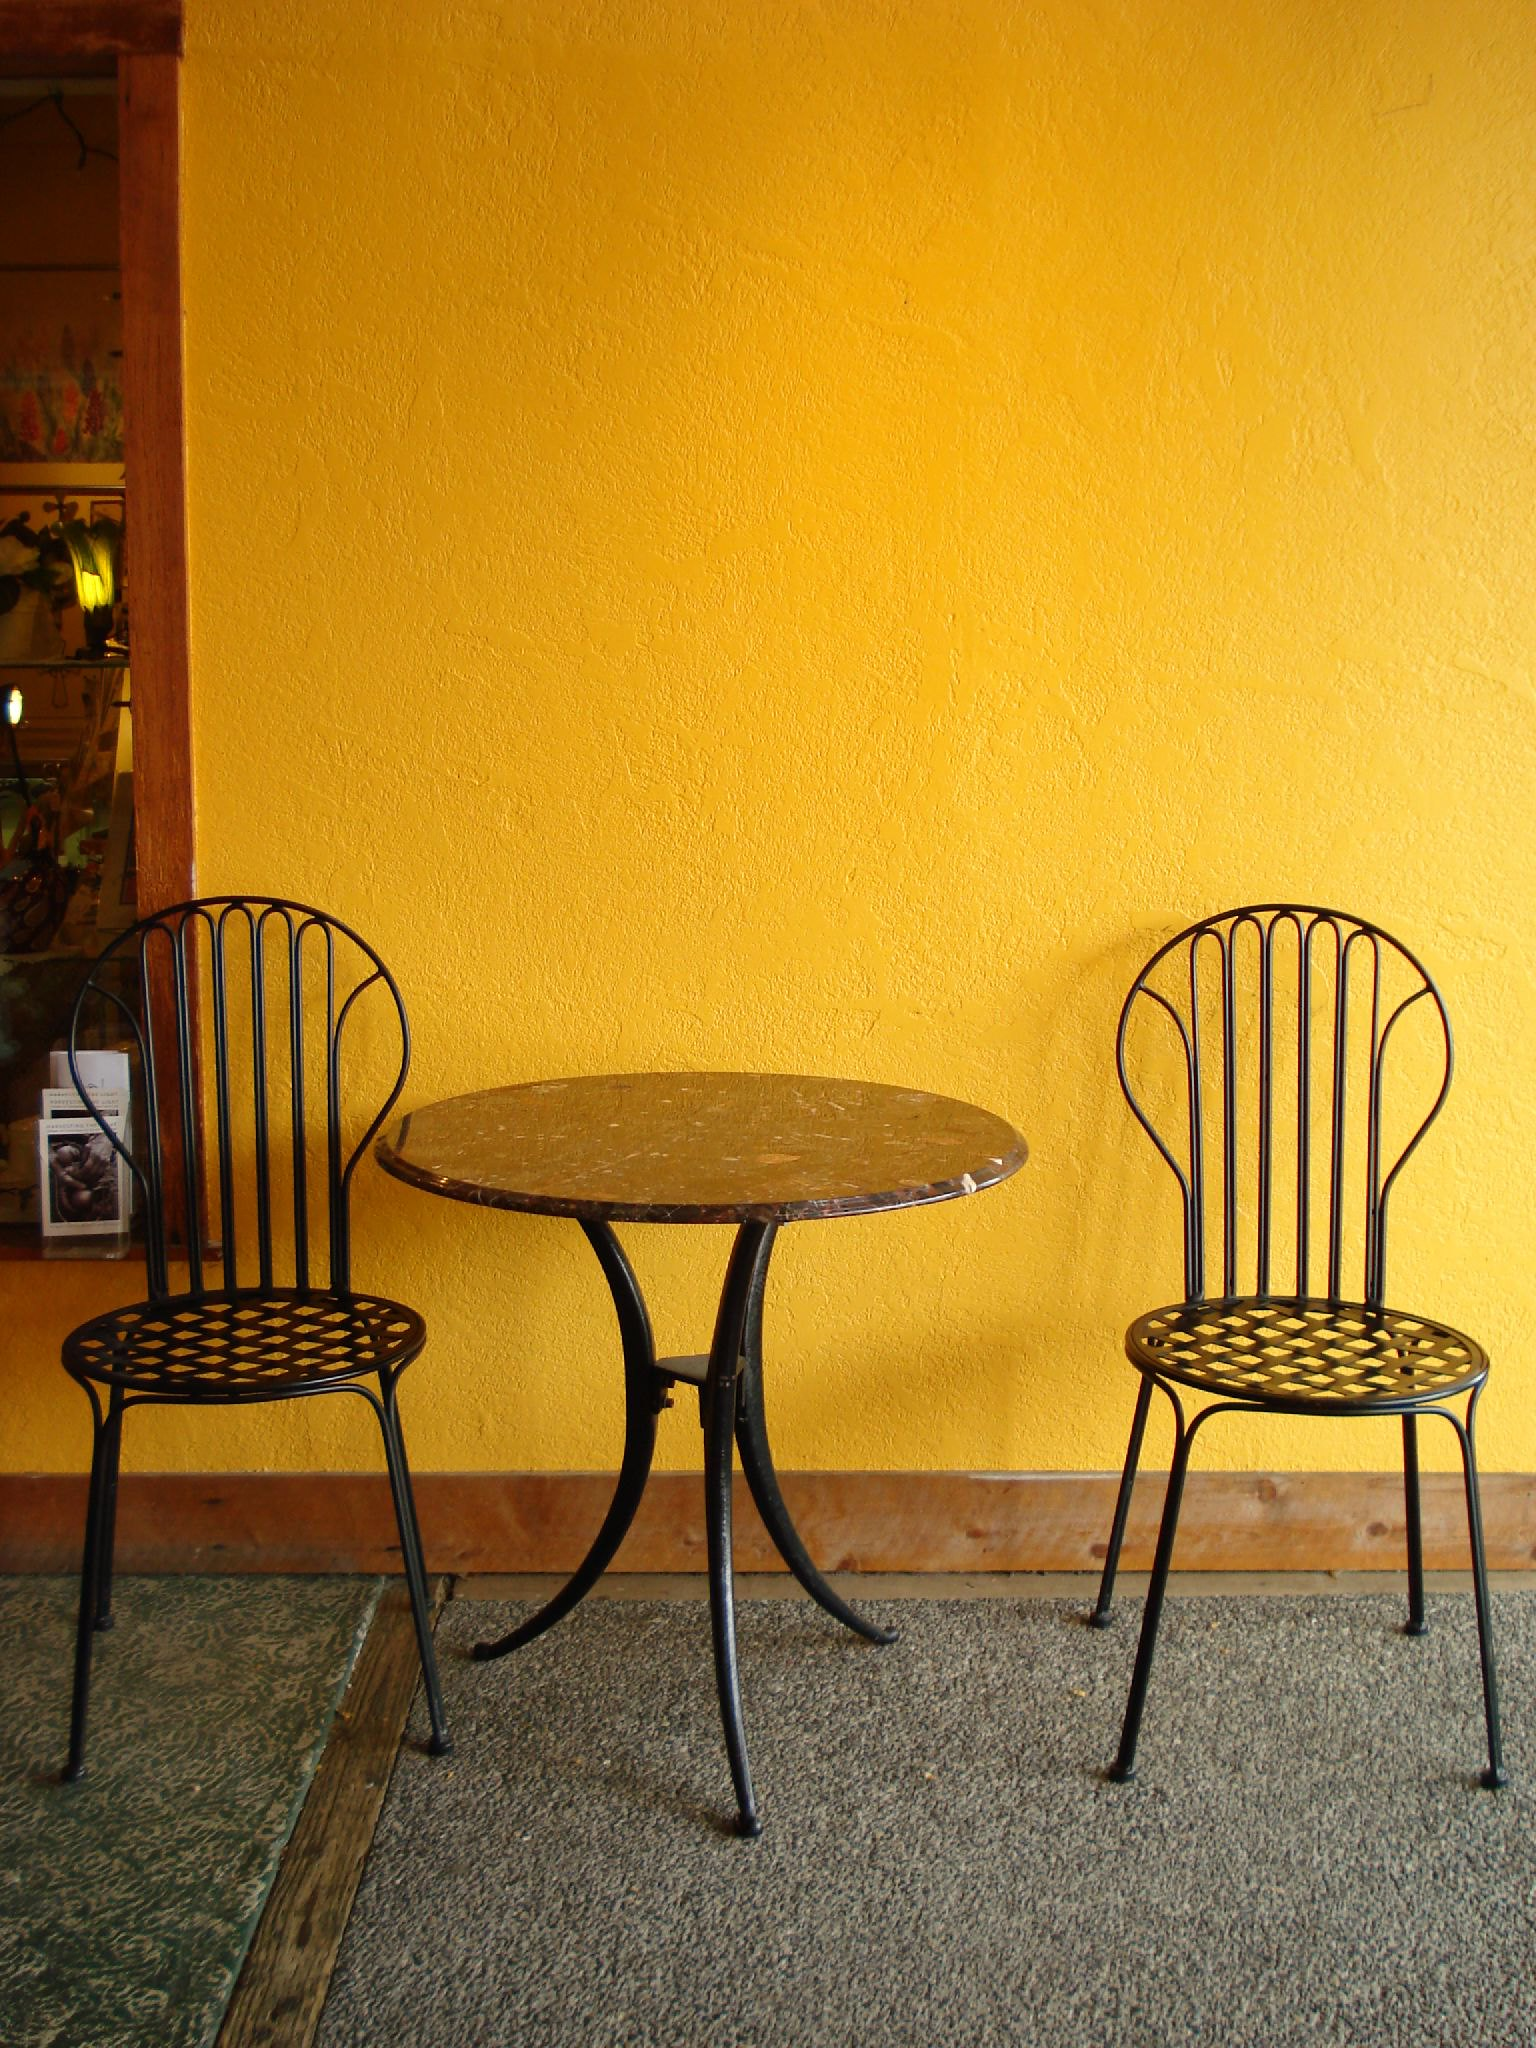chair: (1057, 890, 1518, 1822), (47, 897, 478, 1798)
